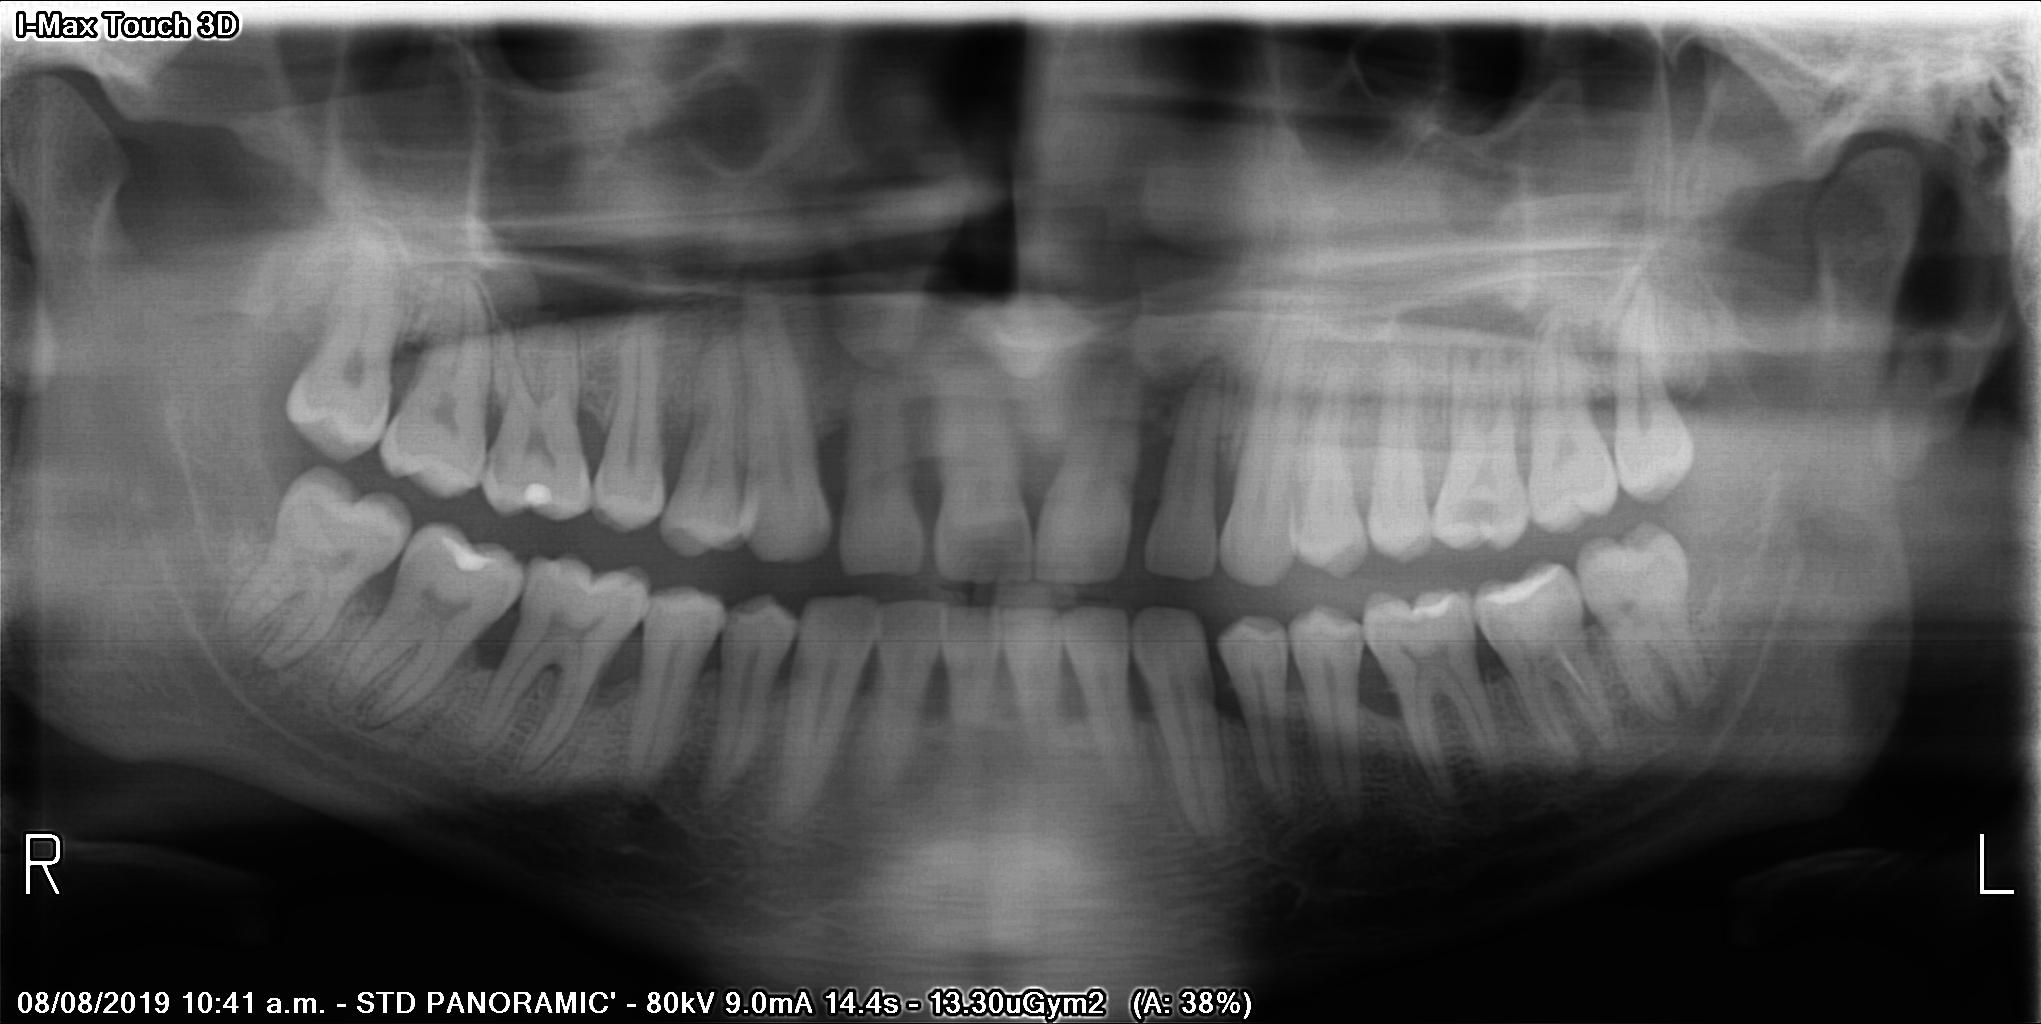Çürük: (431, 529, 503, 583), (521, 479, 556, 515)
Çürük Bölgesi: (1453, 494, 1507, 536)
